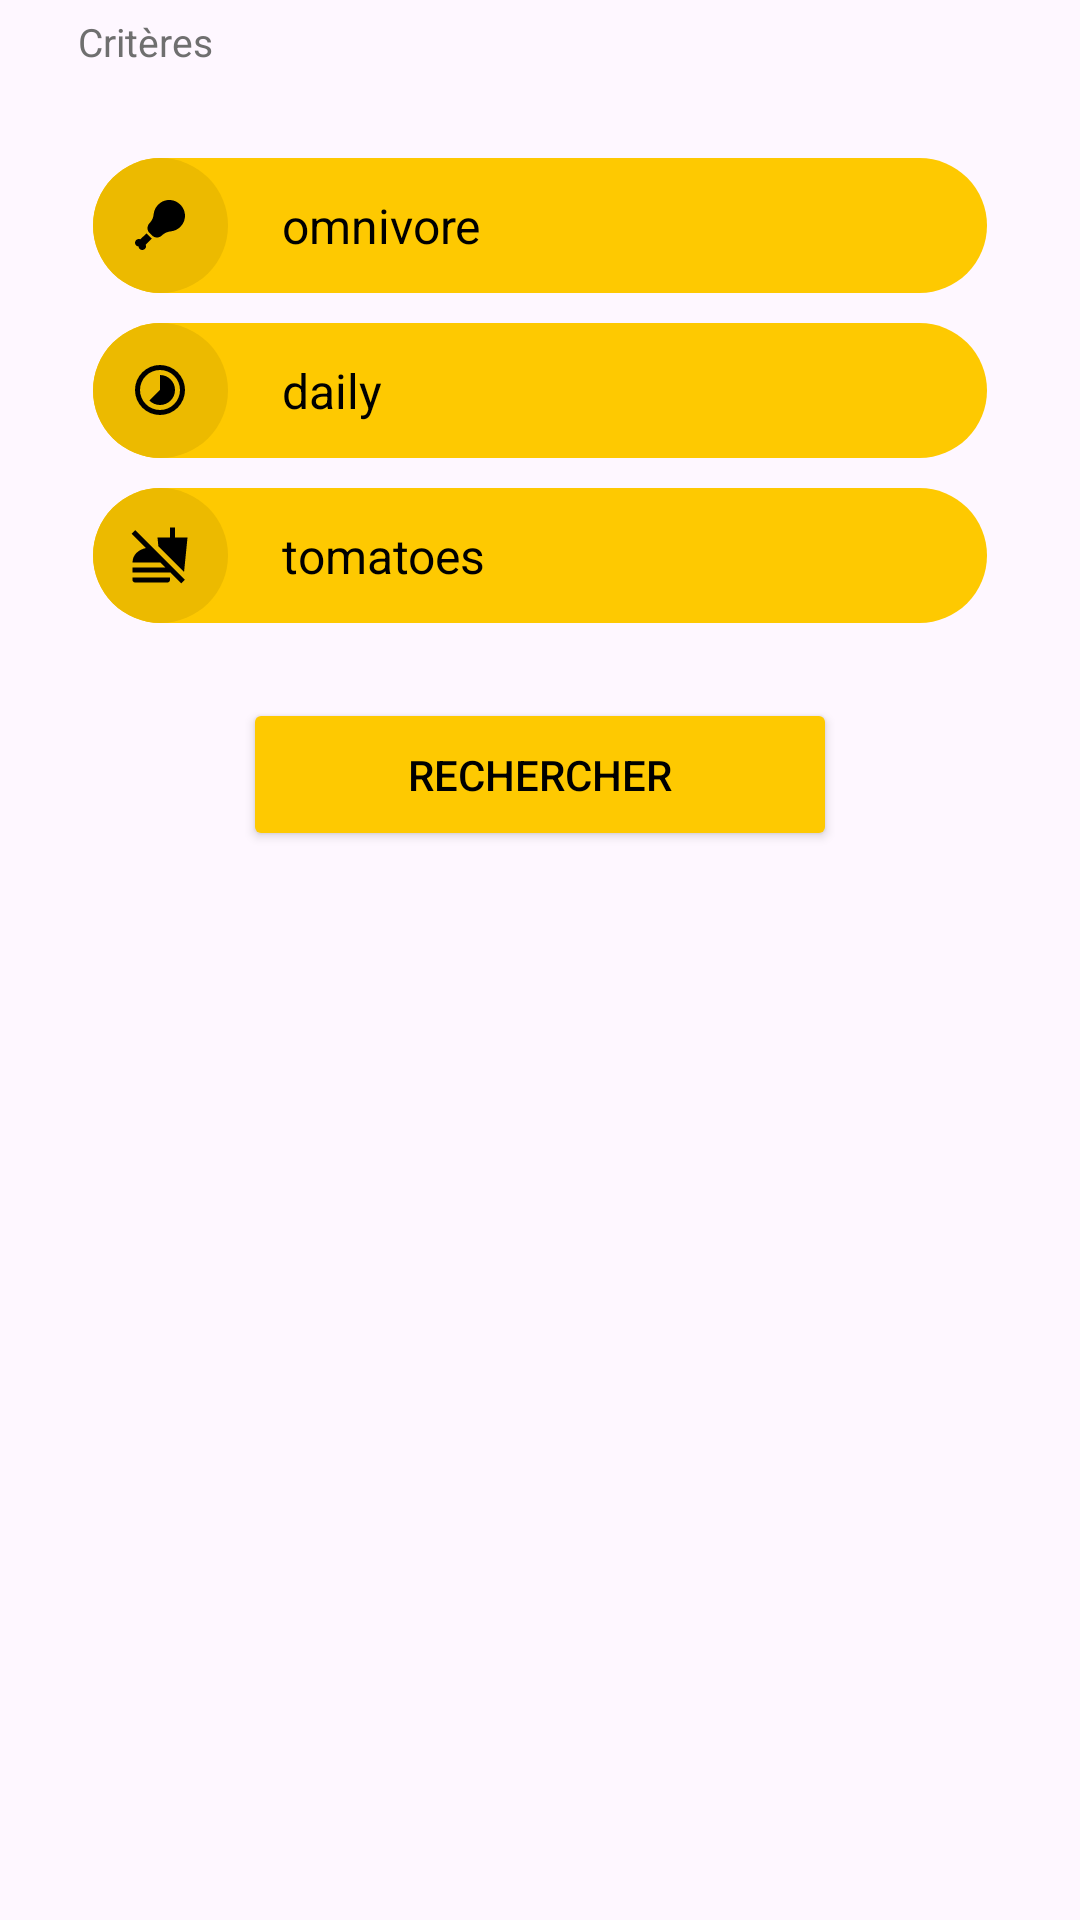

Icons on this 1080*1920 Android screen, each with its box as [x1,y1,x2,y2]:
diet: [135,200,185,250]
food: [131,527,188,584]
